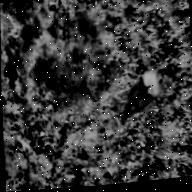boar: (122, 78, 152, 121)
